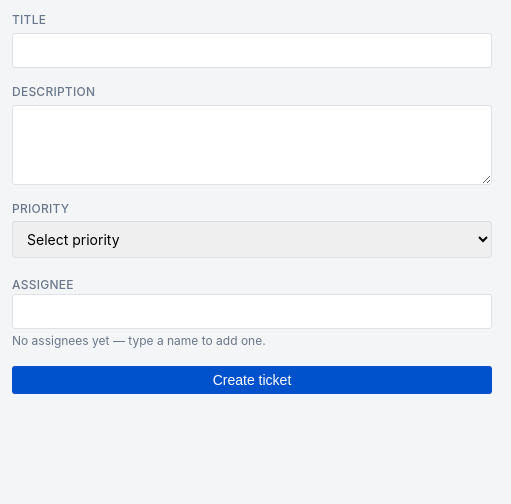
TicketForm › shows blank-field hints before submit when required fields are empty
Click the button "Create ticket".
click(252, 380)  # box x1=12 y1=366 x2=492 y2=394
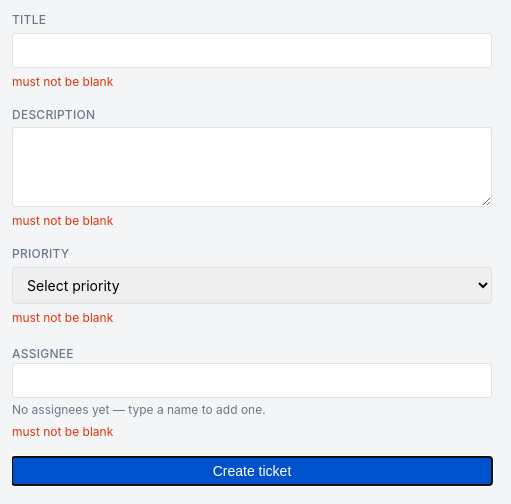
Expected: the text "must not be blank" is shown 4 times, x1=12 y1=74 x2=113 y2=89; x1=12 y1=213 x2=113 y2=228; x1=12 y1=310 x2=113 y2=325; x1=12 y1=424 x2=113 y2=439
